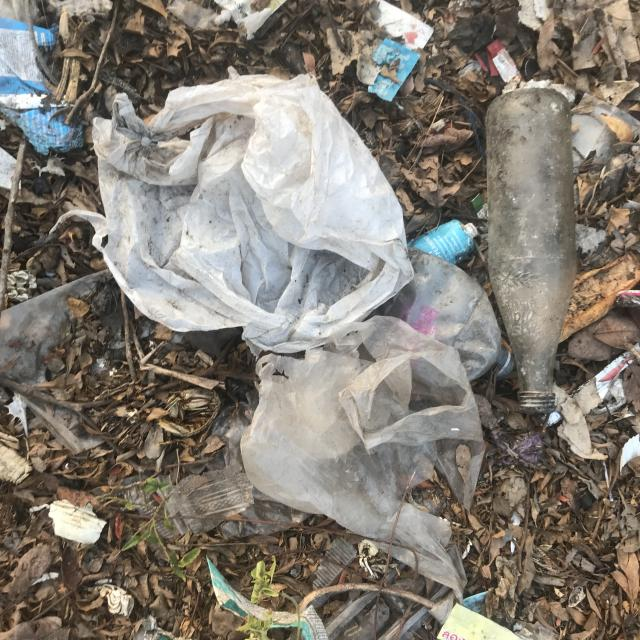Single-layer Plastic: (60, 71, 412, 352), (241, 316, 485, 542)
